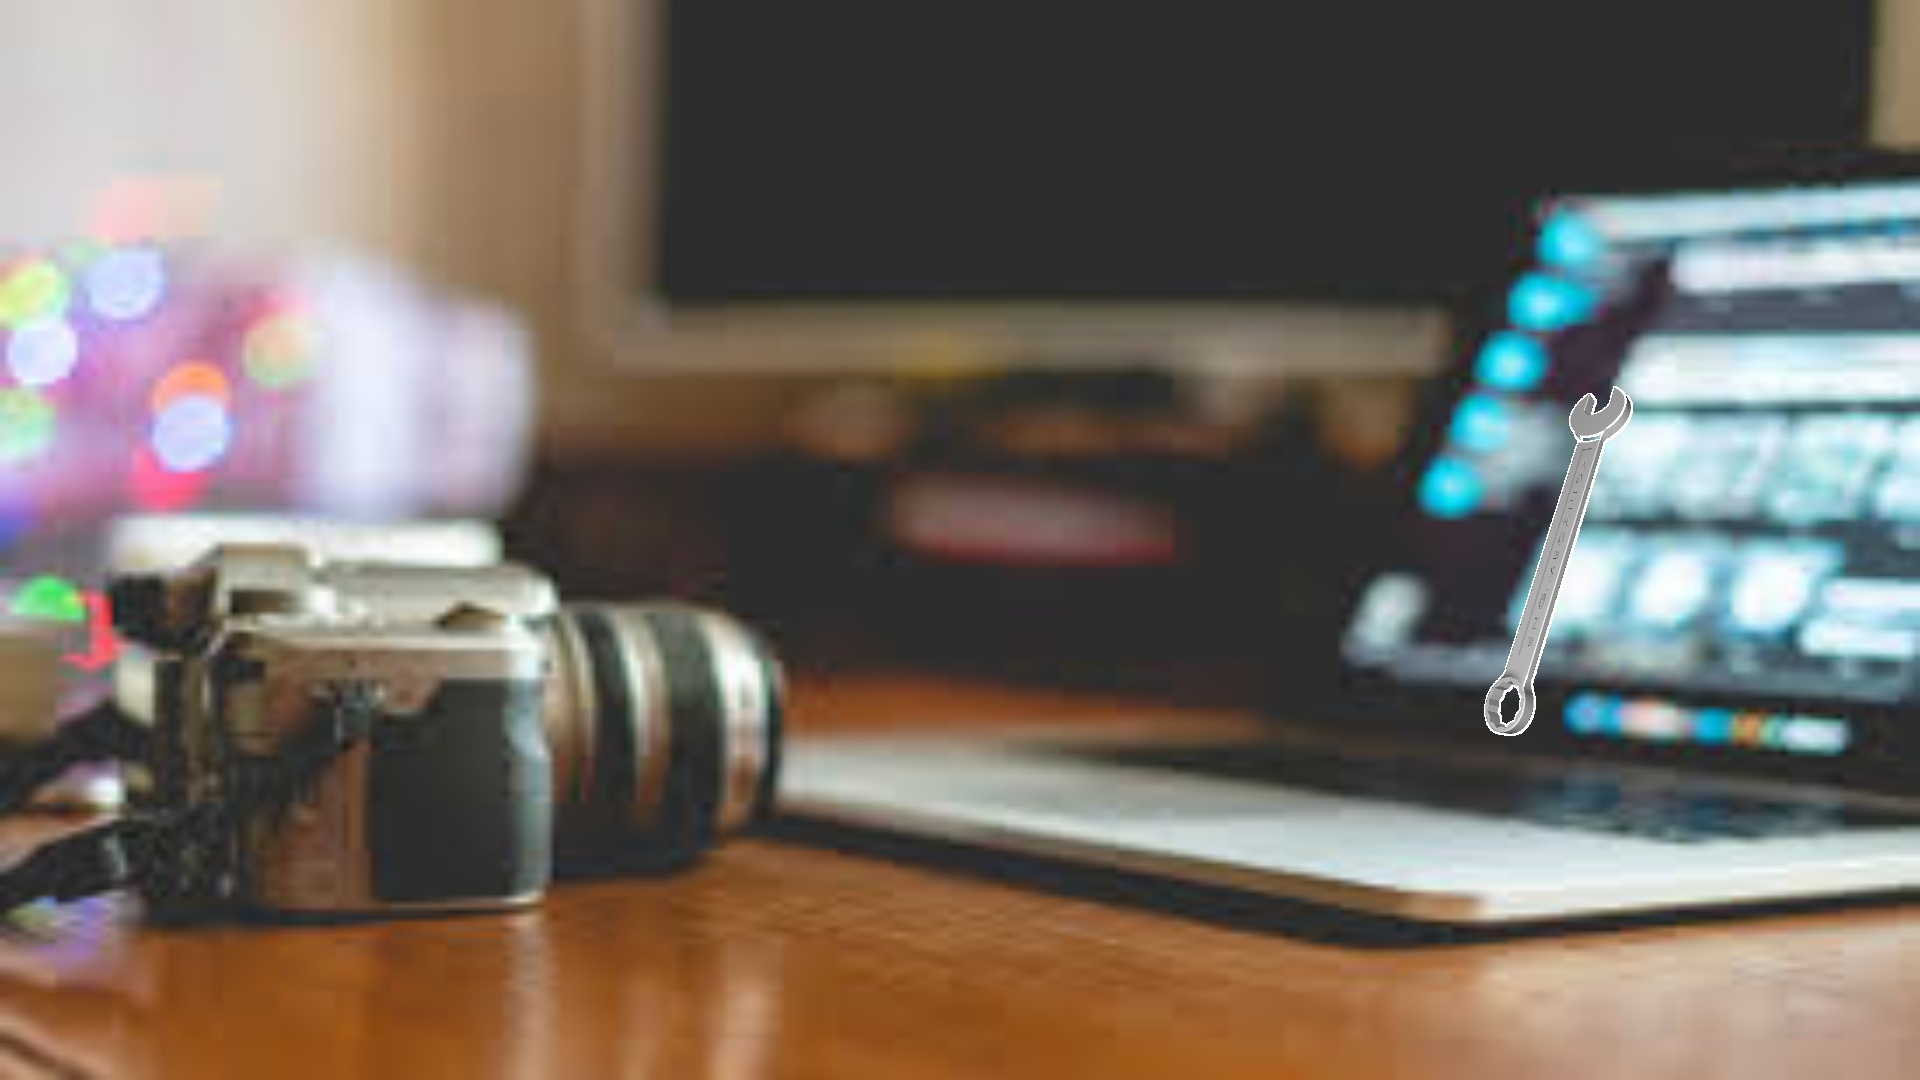Mixed Key: (1484, 386, 1633, 735)
